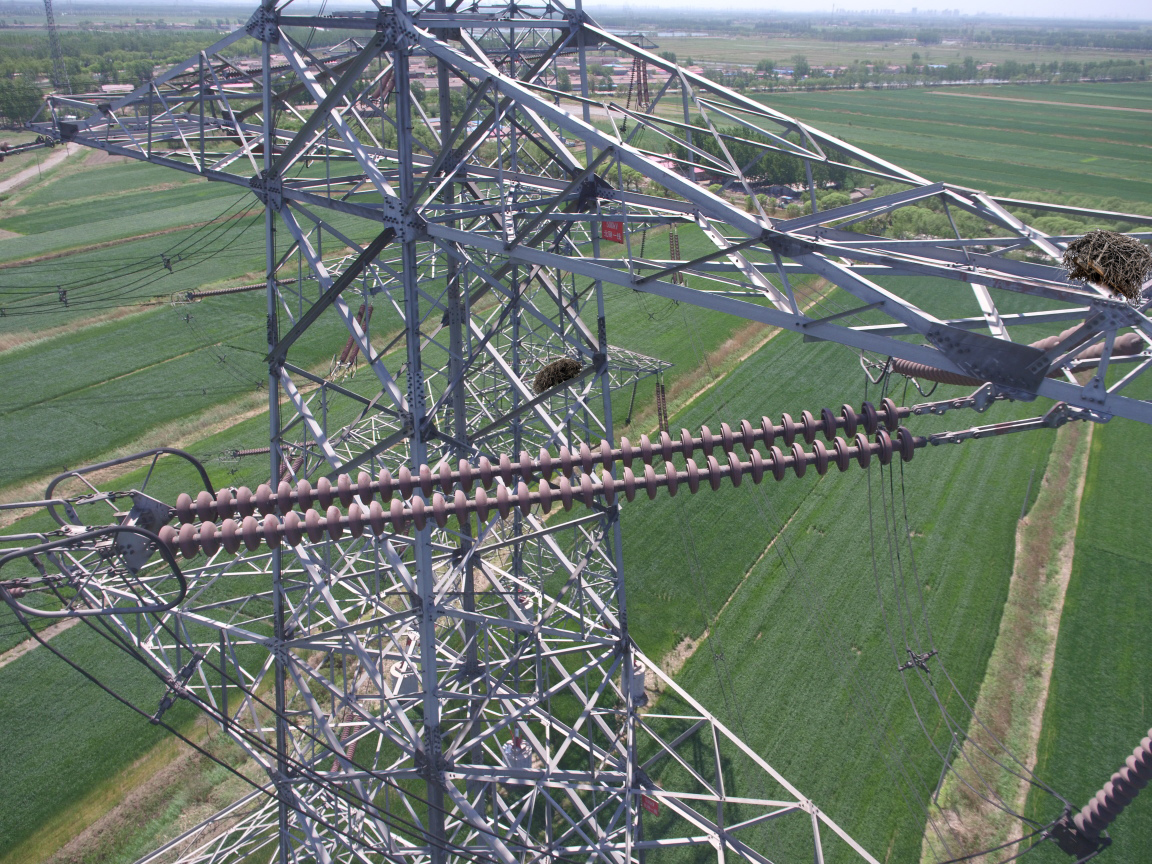nest: (1059, 221, 1149, 303), (532, 354, 582, 398)
